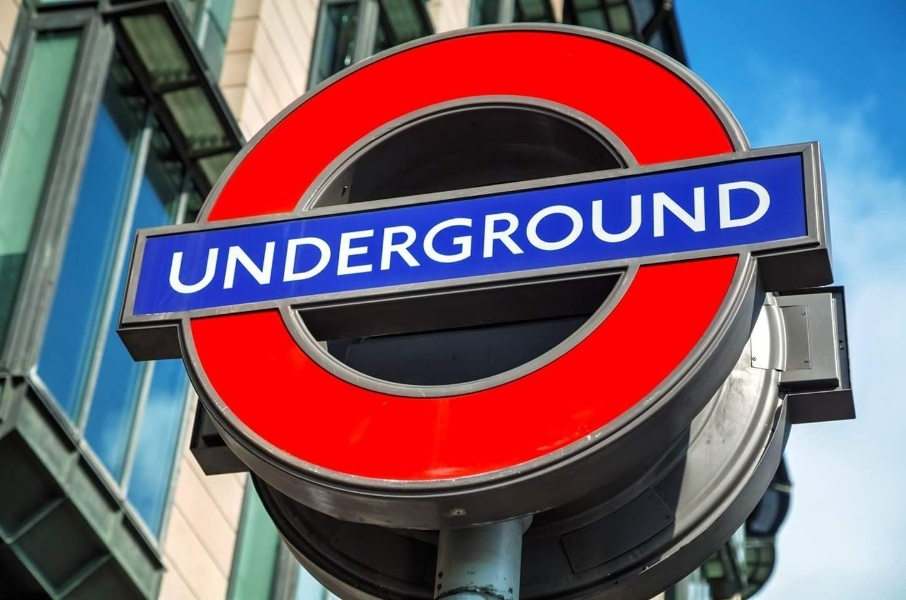text: (177, 177, 192, 298), (193, 177, 208, 298), (209, 177, 224, 298), (225, 177, 240, 298), (241, 177, 256, 298), (257, 177, 272, 298), (273, 177, 288, 298), (289, 177, 304, 298), (305, 177, 320, 298), (321, 177, 336, 298), (337, 177, 352, 298), (353, 177, 368, 298), (369, 177, 384, 298), (385, 177, 400, 298), (401, 177, 416, 298), (417, 177, 432, 298), (433, 177, 448, 298), (449, 177, 464, 298), (465, 177, 480, 298), (481, 177, 496, 298), (497, 177, 512, 298), (513, 177, 528, 298), (529, 177, 544, 298), (545, 177, 560, 298), (561, 177, 576, 298), (577, 177, 592, 298), (593, 177, 608, 298), (609, 177, 624, 298), (625, 177, 640, 298), (641, 177, 656, 298), (657, 177, 672, 298), (673, 177, 688, 298), (689, 177, 704, 298), (705, 177, 720, 298), (721, 177, 736, 298), (737, 177, 752, 298), (753, 177, 768, 298), (173, 177, 176, 298), (769, 177, 772, 298)
